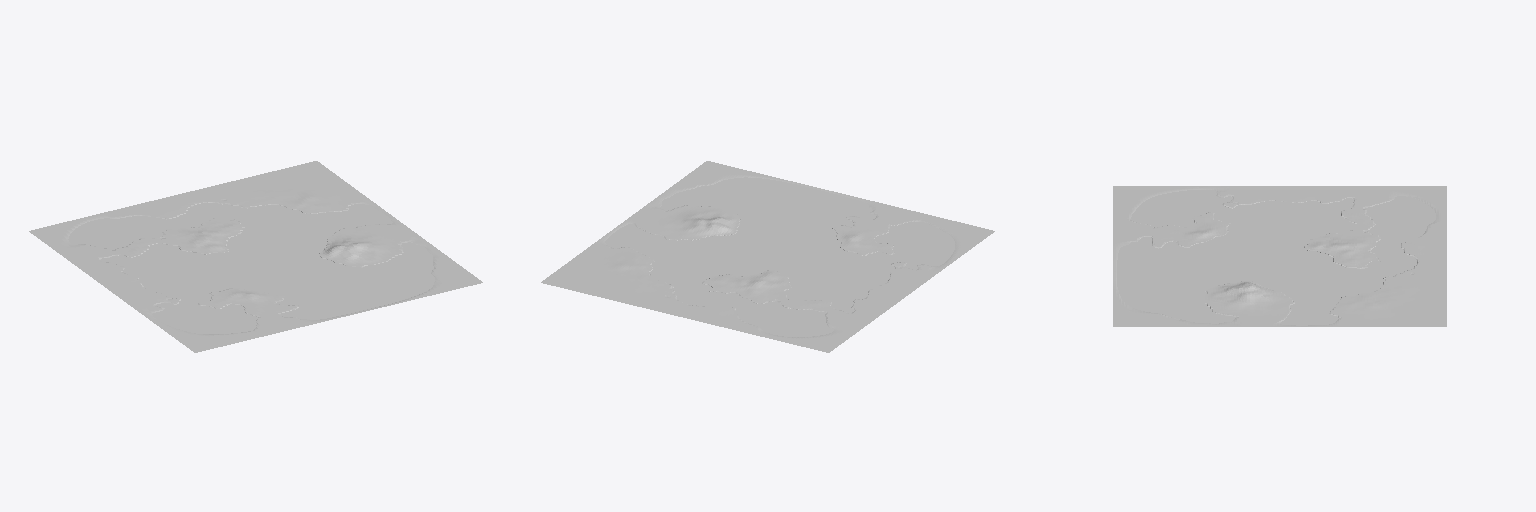
The model's file is Map.obj.
The picture shows the model from 3 angles: view 1: azimuth 30°, elevation 25°; view 2: azimuth 150°, elevation 25°; view 3: azimuth 270°, elevation 25°; orthographic projection.
Parts seen in each view (by area): view 1: Landscape_plane.003, Landscape.004; view 2: Landscape_plane.003, Landscape.004; view 3: Landscape_plane.003, Landscape.004.
Boxes of the visible parts, x1,y1,x2,y2 form: Landscape_plane.003: [30, 203, 480, 352]; Landscape.004: [29, 161, 482, 352]; Landscape_plane.003: [543, 177, 993, 352]; Landscape.004: [541, 161, 994, 352]; Landscape_plane.003: [1117, 190, 1435, 325]; Landscape.004: [1113, 186, 1446, 326].
Bounding box in the file's own units: 20 × 0.5022 × 20.